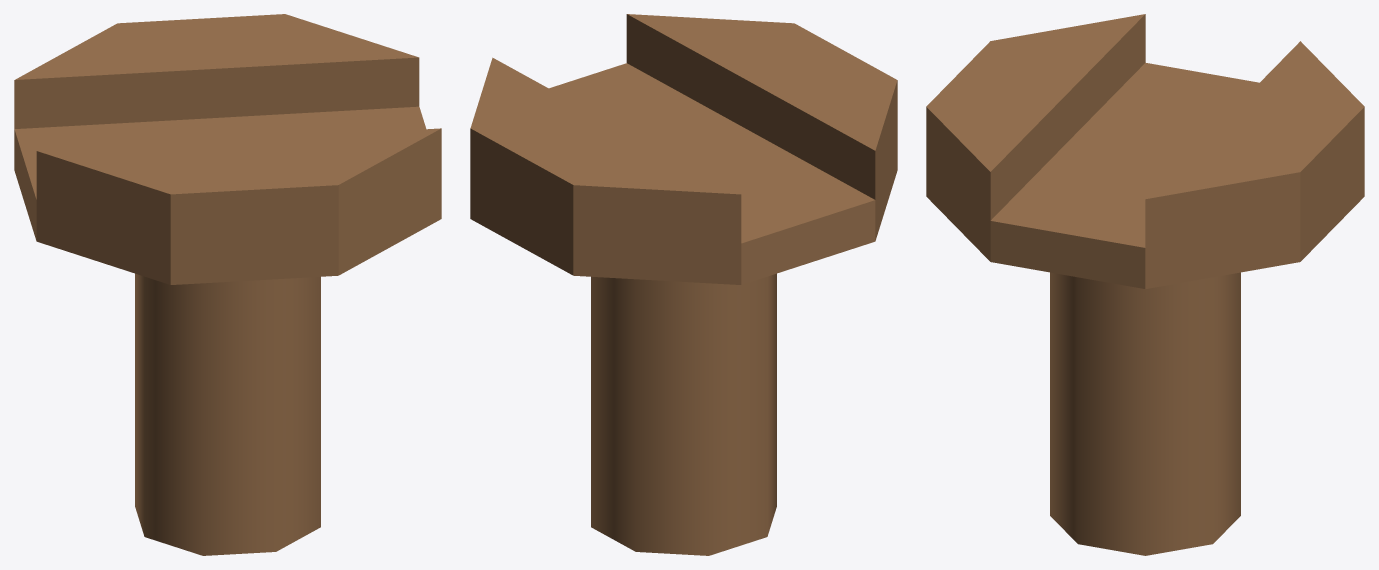
File: explosion-Screw.fbx
The picture shows the model from 3 angles, left to right: view 1: azimuth 30°, elevation 25°; view 2: azimuth 150°, elevation 25°; view 3: azimuth 270°, elevation 25°; orthographic projection.
Parts seen in each view (by area): view 1: Screw; view 2: Screw; view 3: Screw.
Boxes of the visible parts, x1,y1,x2,y2 form: Screw: (14, 14, 441, 555); Screw: (470, 14, 897, 555); Screw: (926, 14, 1364, 555).
Bounding box in the file's own units: 0.1 × 0.1029 × 0.1.
